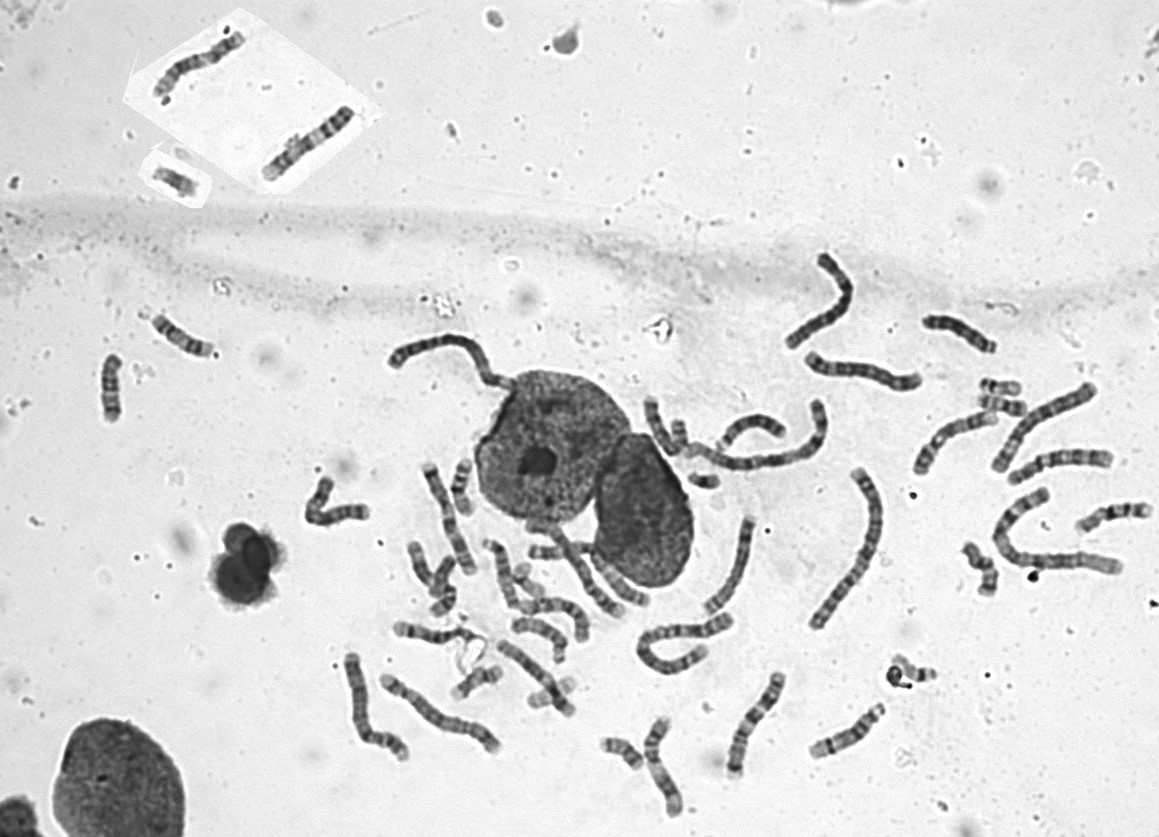chromosomes: (803, 464, 889, 640), (667, 394, 835, 473), (993, 487, 1127, 579), (378, 670, 507, 759), (987, 378, 1106, 474), (521, 518, 626, 622), (385, 332, 525, 398), (334, 650, 412, 767), (526, 541, 653, 612), (146, 27, 255, 107), (260, 101, 358, 186), (726, 668, 791, 788), (493, 638, 580, 723), (785, 250, 856, 352), (698, 507, 762, 620), (635, 611, 739, 680), (418, 463, 478, 580), (909, 410, 1002, 481), (638, 709, 691, 821), (802, 351, 926, 395), (804, 703, 894, 761), (295, 475, 379, 530), (1003, 448, 1118, 485), (920, 310, 999, 360), (144, 310, 219, 360), (527, 598, 598, 648), (706, 412, 792, 453), (480, 534, 524, 611), (507, 614, 570, 667), (1073, 499, 1152, 539), (442, 663, 507, 705), (406, 539, 460, 589), (641, 393, 682, 458), (958, 539, 1001, 597), (96, 354, 125, 430), (596, 734, 650, 772), (386, 623, 465, 647), (525, 676, 579, 709), (448, 456, 475, 518), (150, 166, 199, 200), (974, 392, 1029, 422), (509, 559, 550, 599), (891, 655, 940, 687), (426, 580, 459, 624), (976, 378, 1026, 398), (688, 472, 724, 493)
